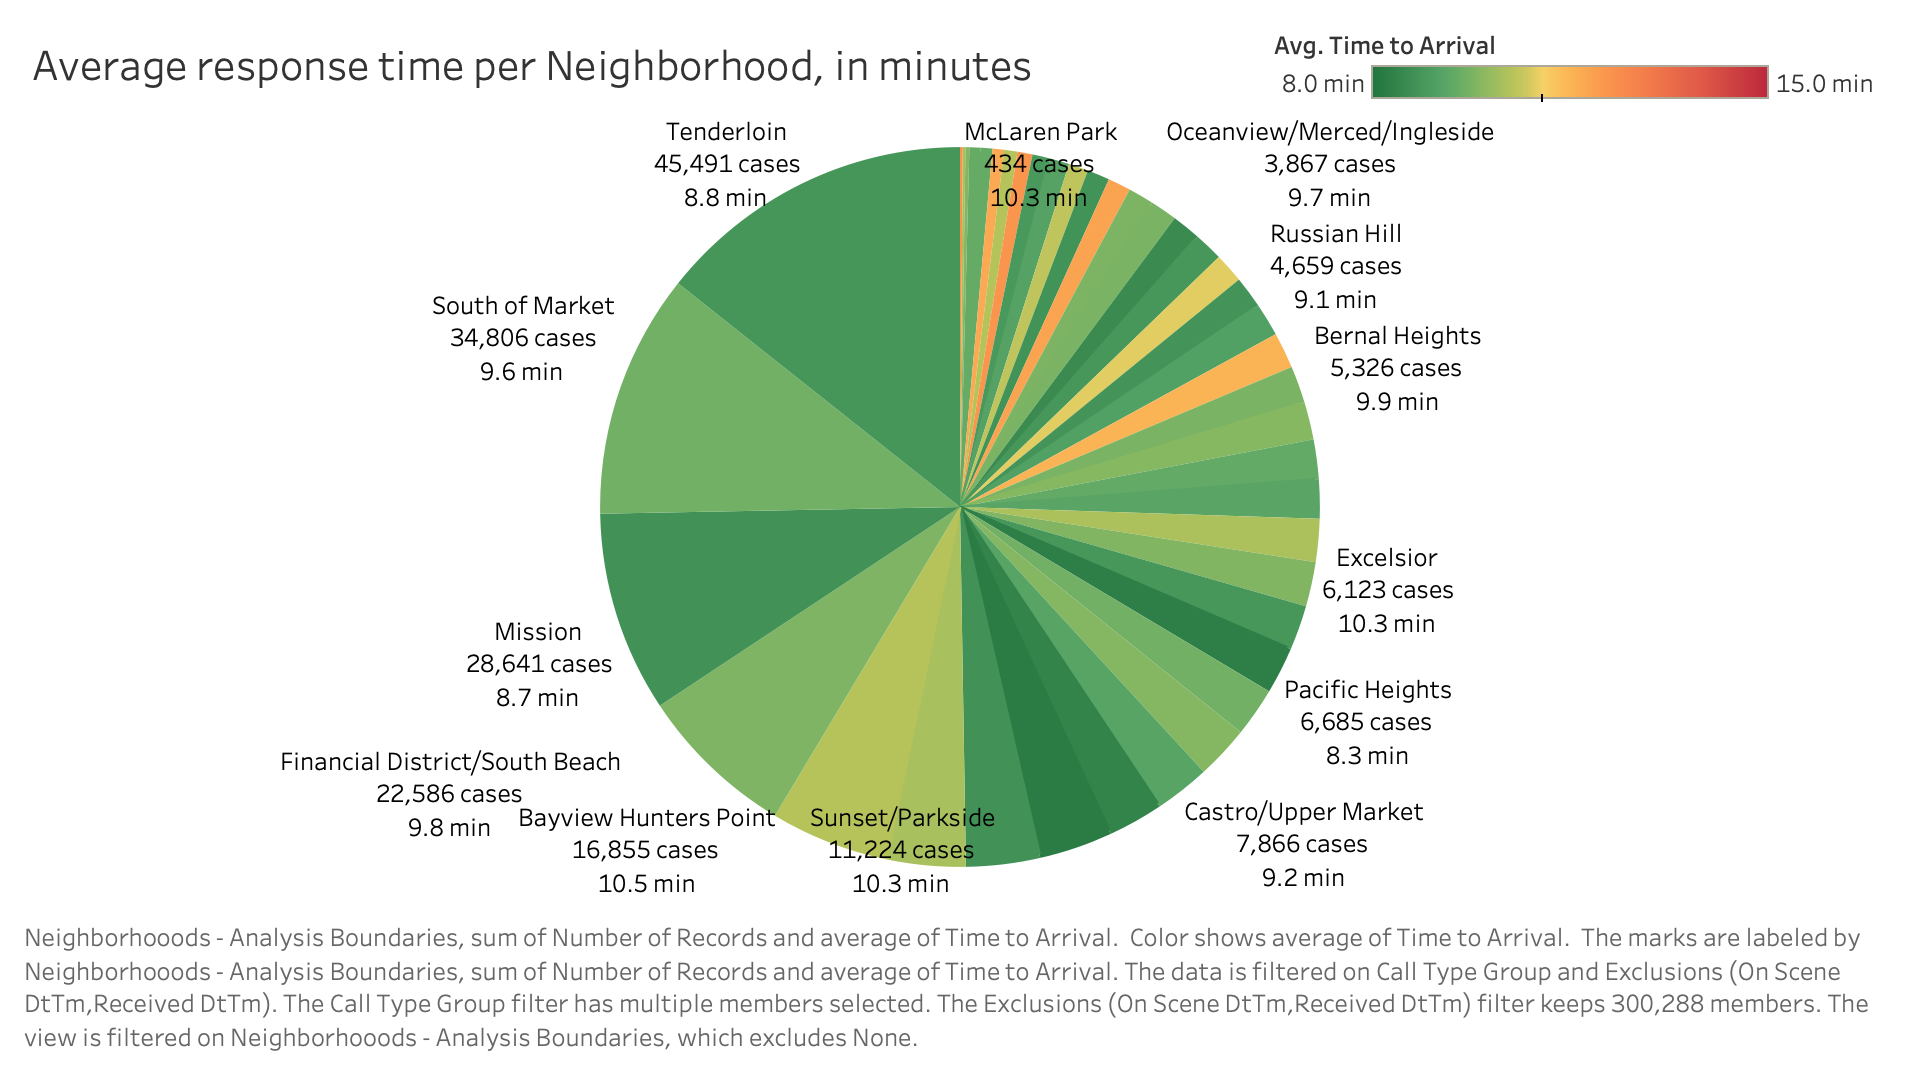

Layout of this report page (visuals, bound fields, positions):
{"tool":"tableau","page":{"name":"Dashboard 1","canvas":[960,540],"ordinal":0},"visuals":[{"type":"worksheet","title":"Average response time per Neighborhood","mark":"Pie","box":[8,8,944,524]},{"type":"legend","title":"Average response time per Neighborhood","param":"[federated.0cn4ezz19ygy0w166k5ly1trcdz3].[avg:Calculation_247346160249446400:qk]","box":[637,10,305,47]}]}

Visuals, with their boxes in screenshot pixels (x1, y1, x2, y2), scaled from the page's 960x540 canvas onto the 1920x1080 screenshot:
"Average response time per Neighborhood" worksheet (Pie marks): x1=16, y1=16, x2=1904, y2=1064
"Average response time per Neighborhood" legend: x1=1274, y1=20, x2=1884, y2=114
